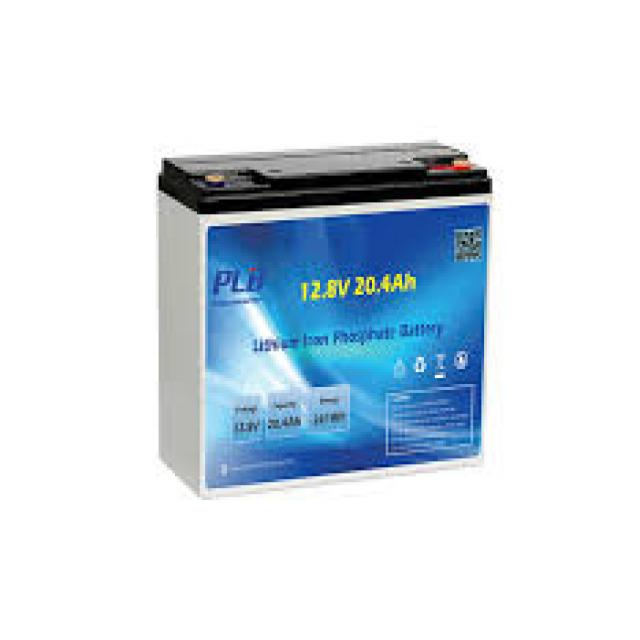non-organic waste: (157, 142, 496, 496)
